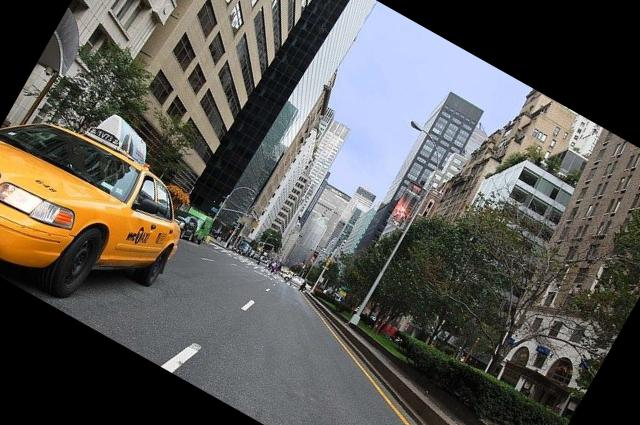taxi: (1, 103, 179, 299)
